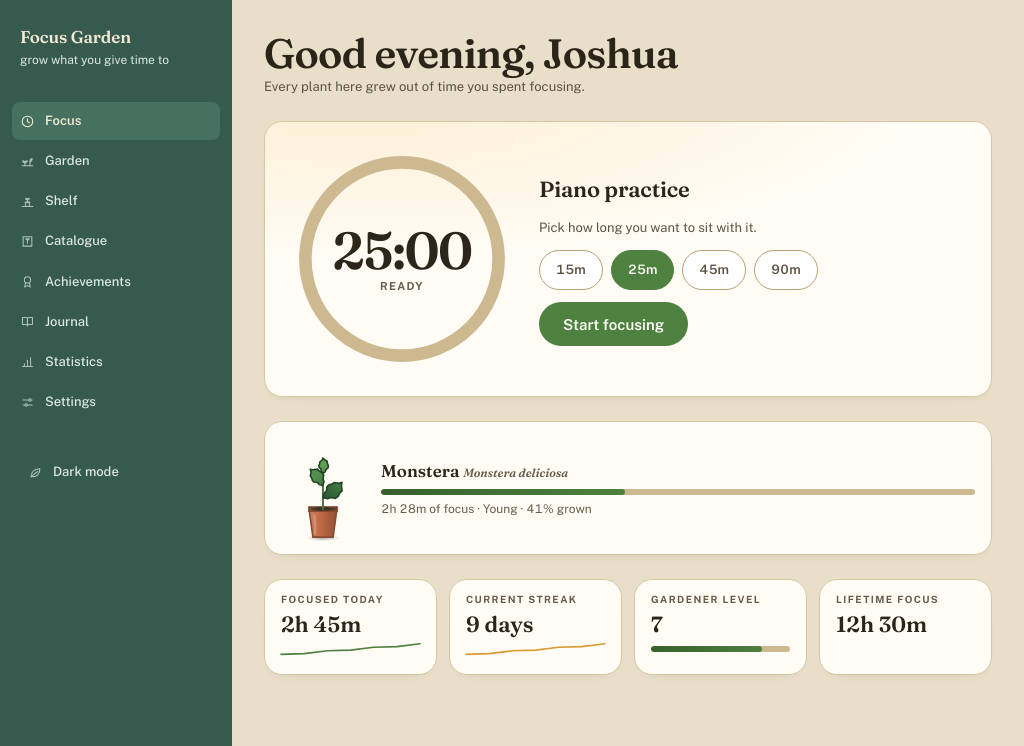
Scenario: the focus screen reads the player's settings › remembers a picked preset as the new default
The width and height of the screenshot is (1024, 746).
Check: the button "Start focusing" is shown, box 539,302 -> 688,346
Click the button "45m" at [714, 270], box 682,250 -> 746,290
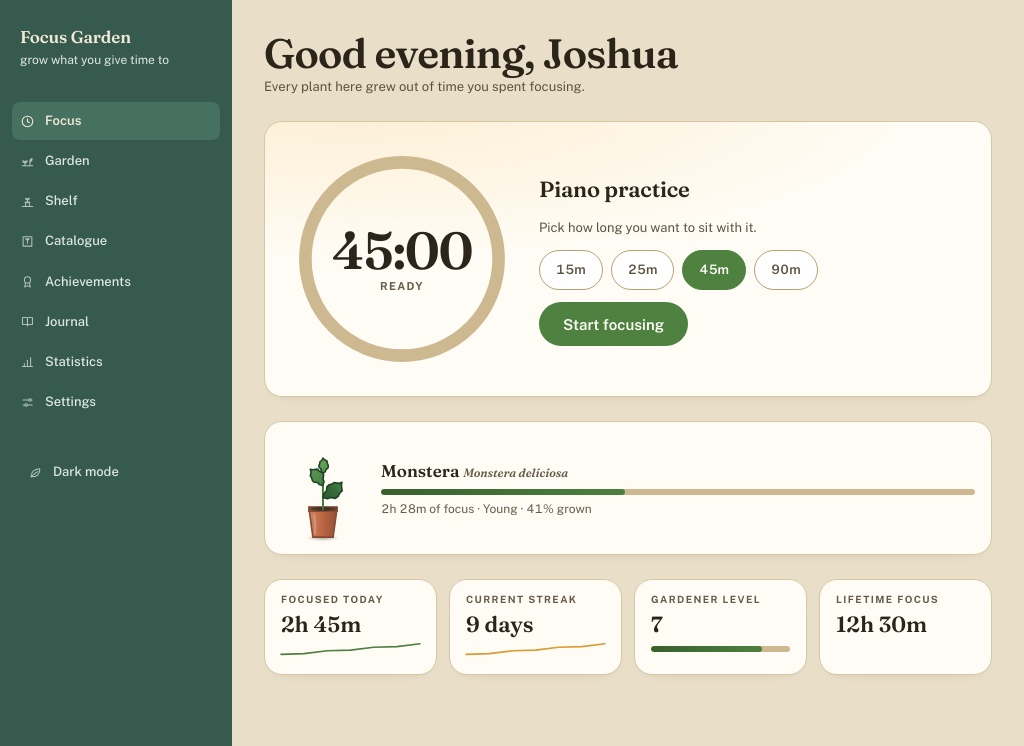
Click the button "Settings" at [116, 402], box 12,383 -> 220,421
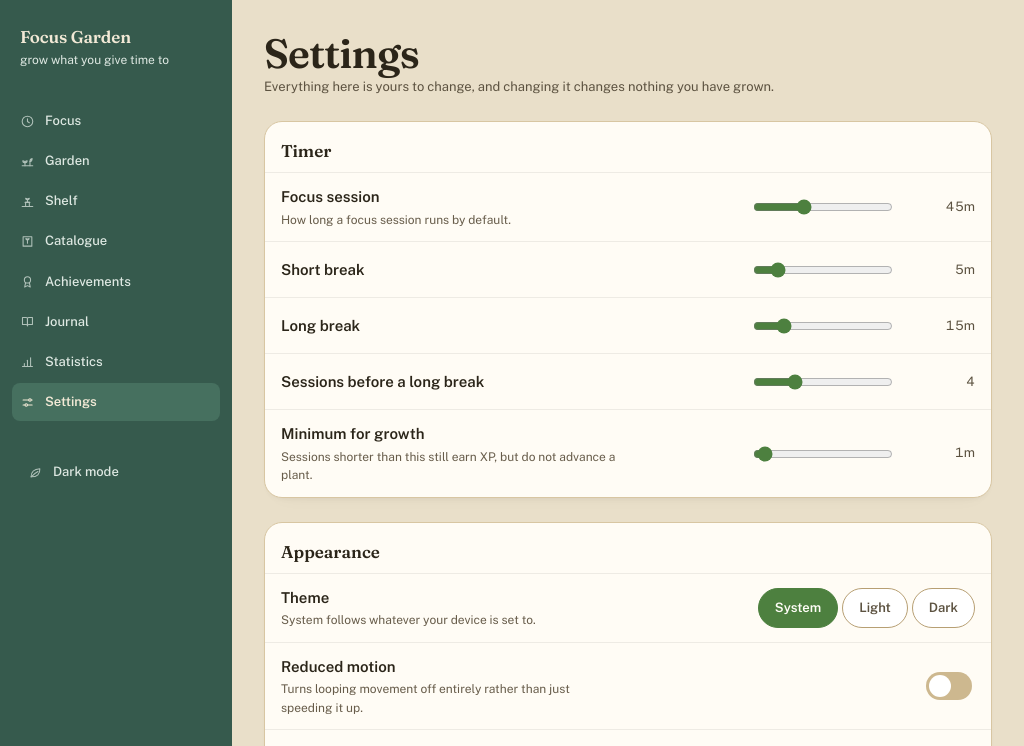
Check: the slider named "Focus session" holds "45", box 753,199 -> 893,215
